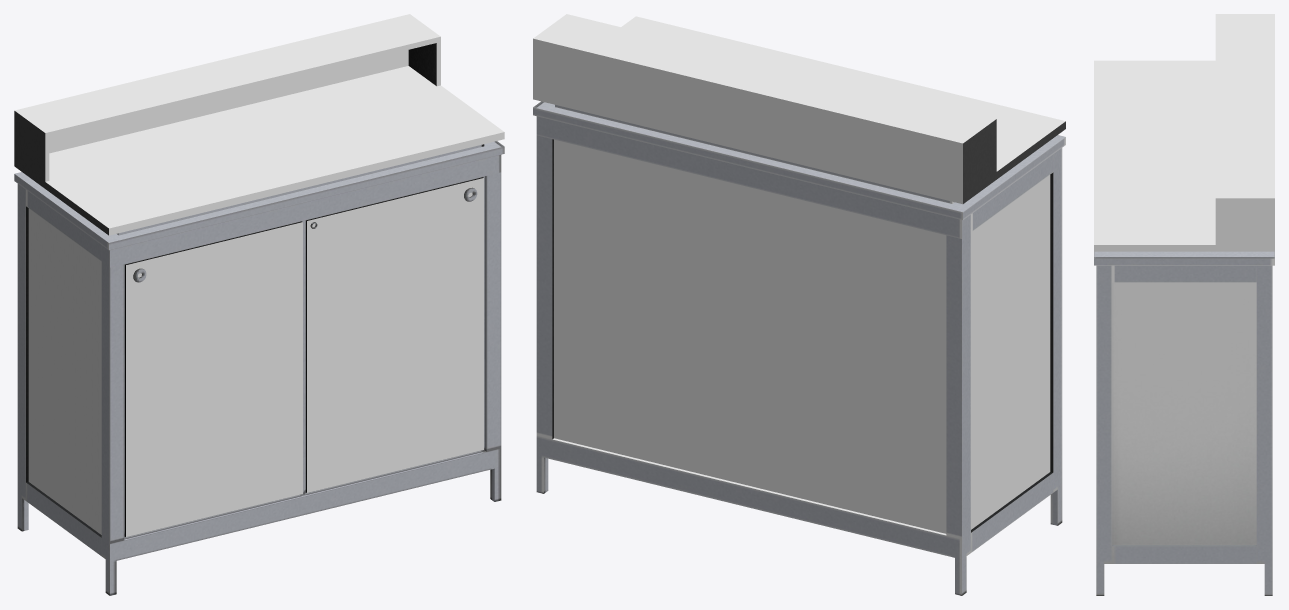
File: bern_m_aufsatz_white_aluminium.glb
3 renders of one model, left to right at view 1: azimuth 30°, elevation 25°; view 2: azimuth 150°, elevation 25°; view 3: azimuth 270°, elevation 25°, orthographic. The views are drawn at different scales.
Visible parts, largest first — view 1: bern_m-o-white; view 2: bern_m-o-white; view 3: bern_m-o-white.
Part boxes in pixels (bbox=[...]): bern_m-o-white: bbox=[14, 14, 504, 595]; bern_m-o-white: bbox=[533, 14, 1065, 595]; bern_m-o-white: bbox=[1094, 14, 1274, 595].
Size of the model in its own units: 1.04 by 1.05 by 0.4315.
Materials: 1 (1 with a texture image).
